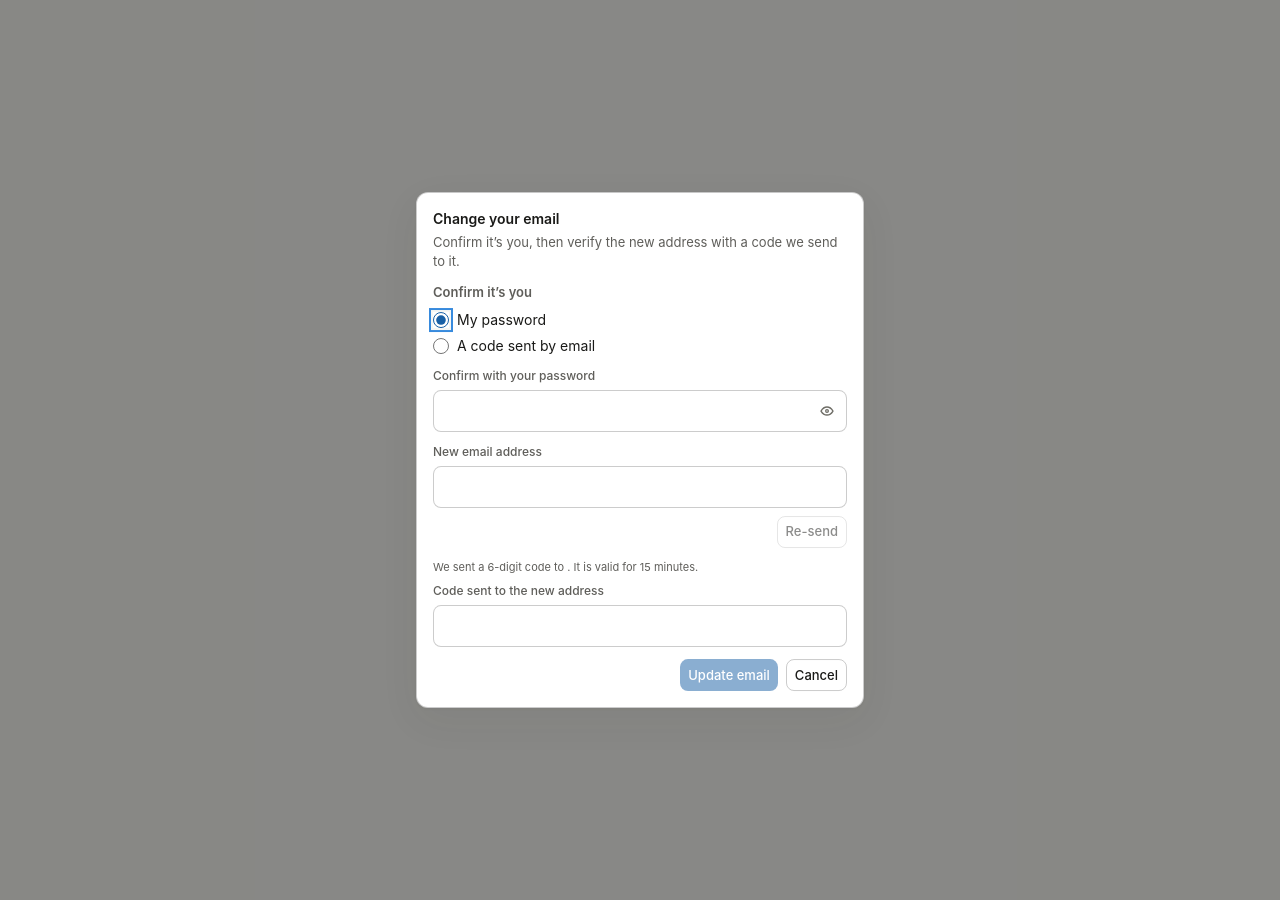
ChangeEmailDialog › Re-send starts the proof from empty › clears a typed password and the typed new-address code, so Update goes disabled again
Type "password123" into the password field labelled "Confirm with your password".
click(640, 411); type("password123")  # box 433,390 -> 847,432
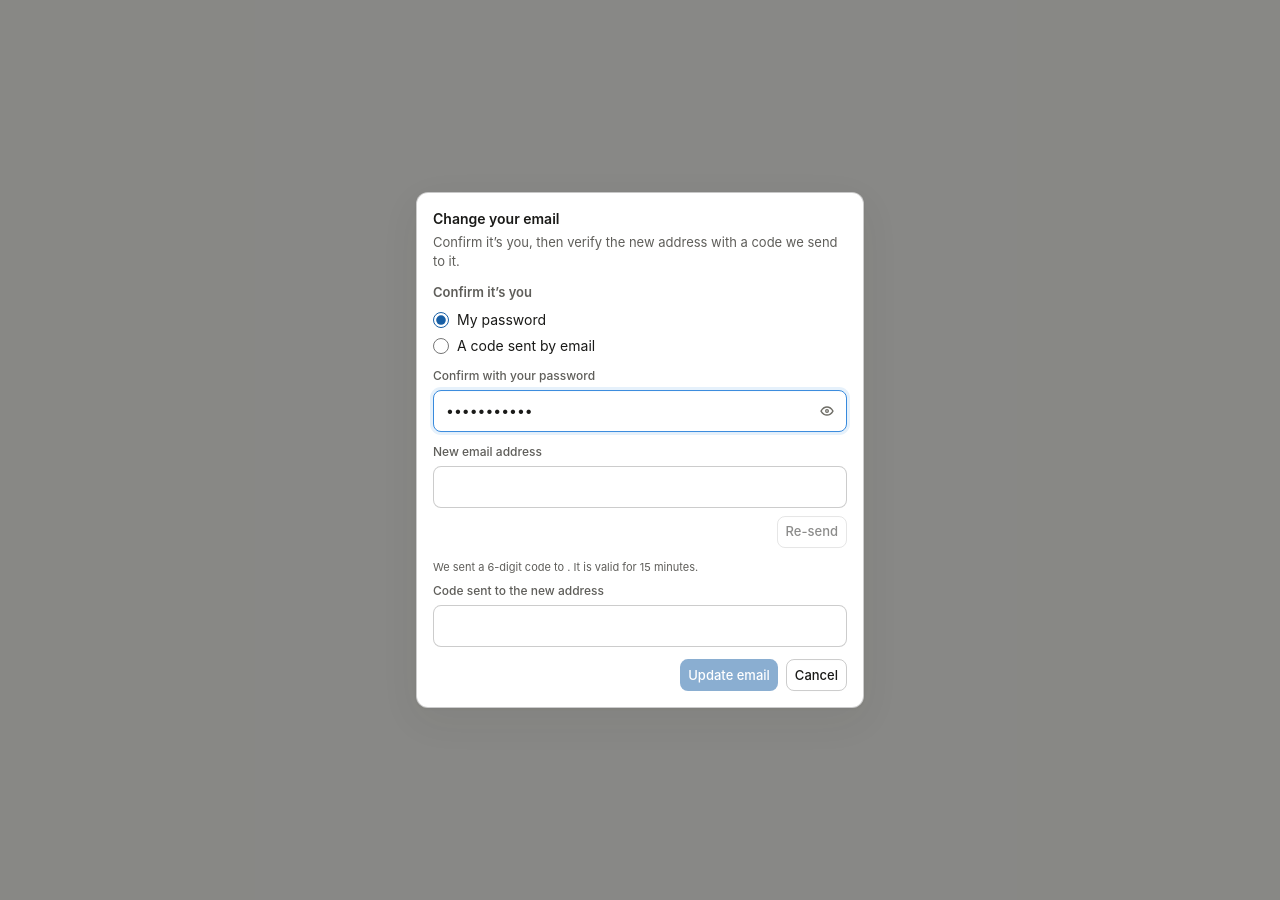
Type "new@example.com" into the field labelled "New email address".
click(640, 487); type("new@example.com")  # box 433,466 -> 847,508
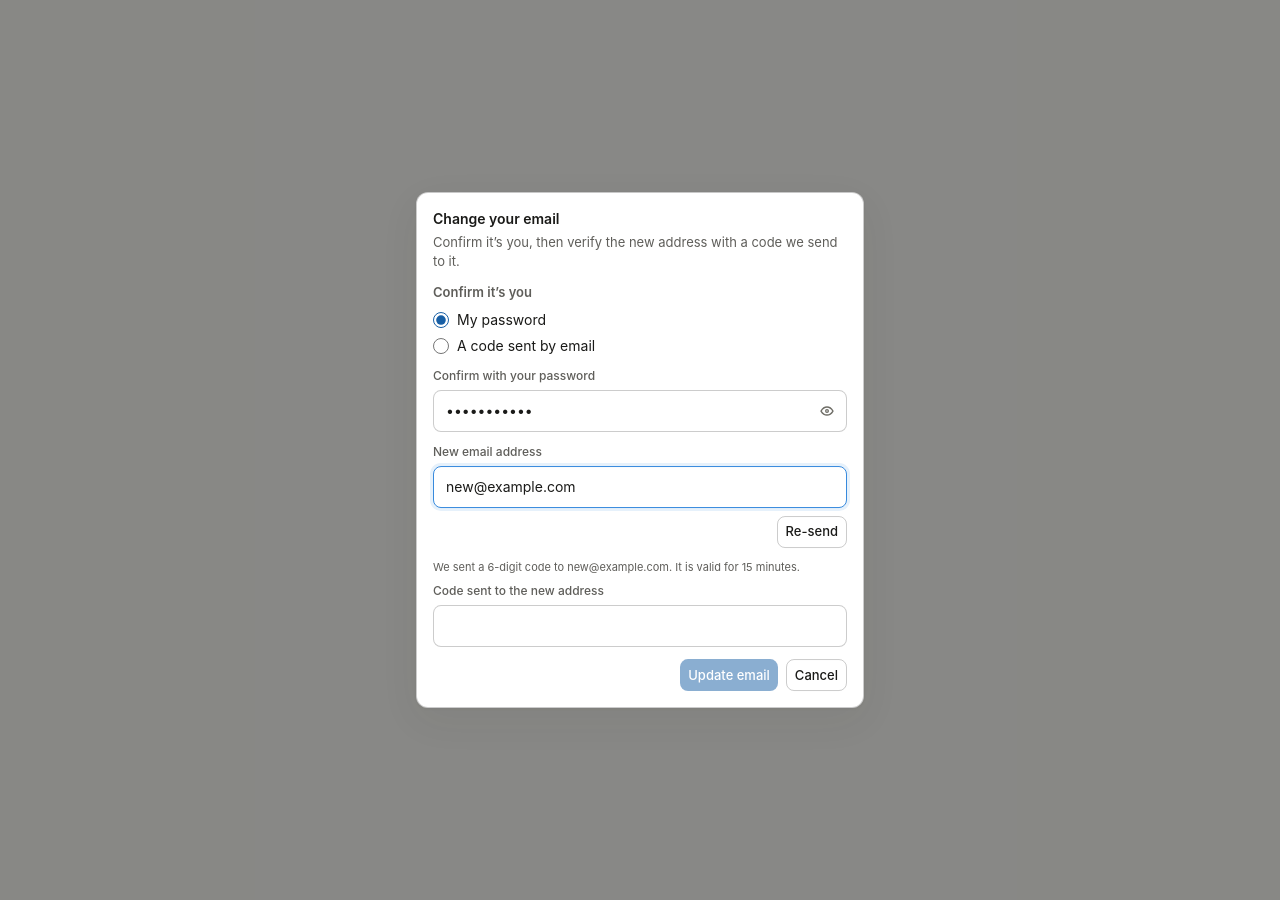
Type "654321" into the field labelled "Code sent to the new address".
click(640, 626); type("654321")  # box 433,605 -> 847,647
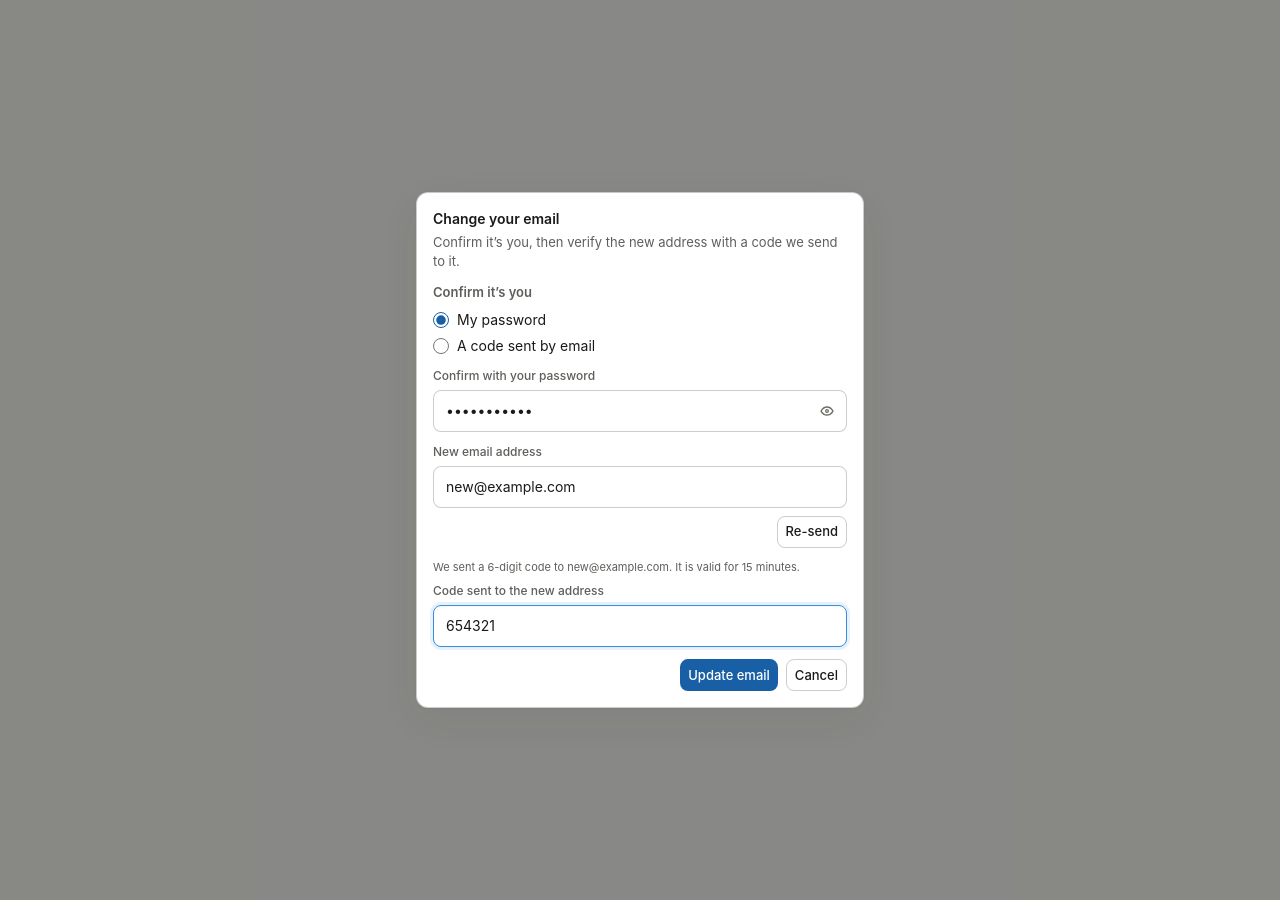
Expected: the button "Update email" is enabled, 680,659 -> 778,691
Click the button "Re-send".
click(812, 532)  # box 777,516 -> 847,548
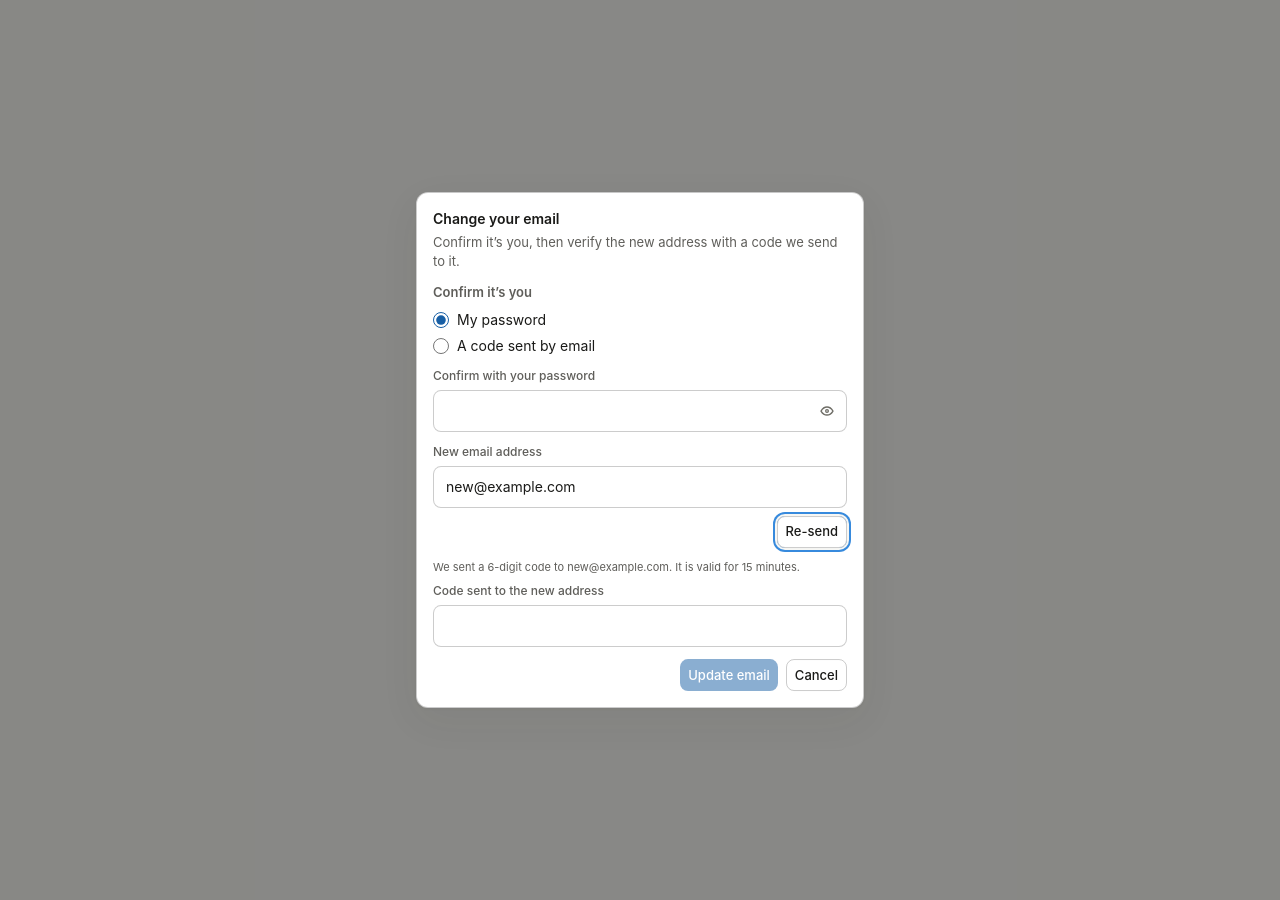
Expected: the password field labelled "Confirm with your password" is empty, 433,390 -> 847,432
Expected: the field labelled "Code sent to the new address" is empty, 433,605 -> 847,647
Expected: the button "Update email" is disabled, 680,659 -> 778,691
